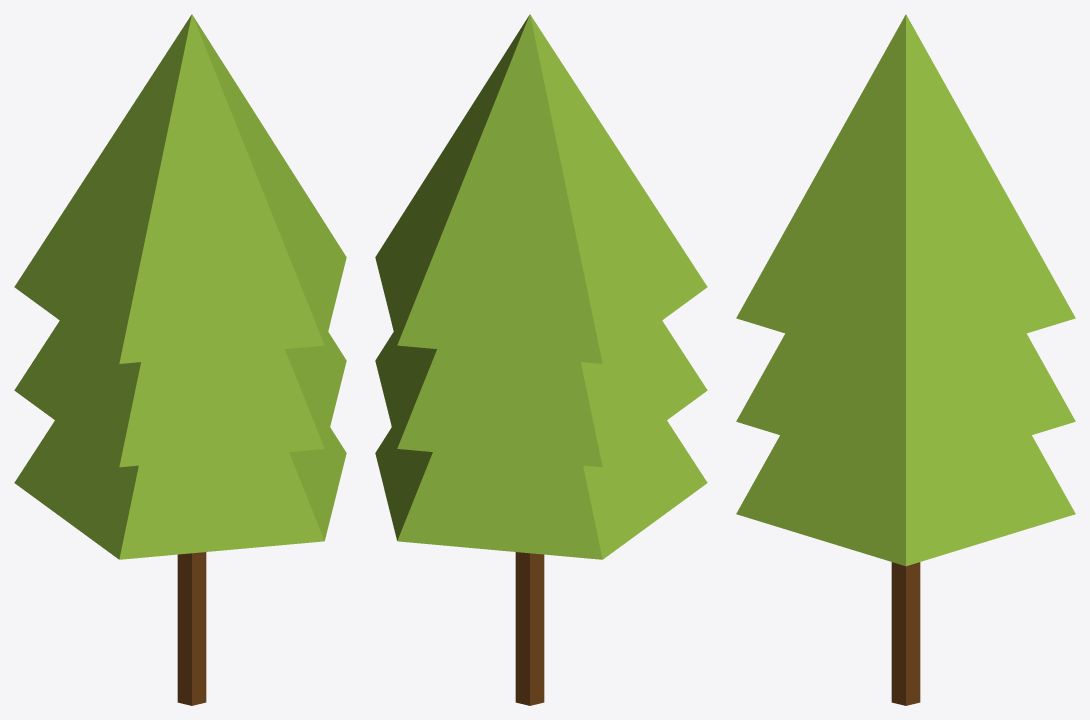
File: SM_Arbol01.fbx
3 renders of one model, left to right at view 1: azimuth 30°, elevation 25°; view 2: azimuth 150°, elevation 25°; view 3: azimuth 270°, elevation 25°, orthographic.
Visible parts, largest first — view 1: Hojas01, Hojas02, Hojas03, Tronco; view 2: Hojas01, Hojas02, Hojas03, Tronco; view 3: Hojas01, Hojas02, Hojas03, Tronco.
Boxes of the visible parts, x1,y1,x2,y2 form: Hojas01: (14,14,346,363); Hojas02: (14,320,346,467); Hojas03: (14,420,346,559); Tronco: (177,552,206,705); Hojas01: (375,14,707,363); Hojas02: (375,320,707,467); Hojas03: (375,420,707,559); Tronco: (515,552,544,705); Hojas01: (736,14,1075,370); Hojas02: (736,333,1075,473); Hojas03: (736,435,1075,566); Tronco: (891,562,920,705).
Size of the model in its own units: 90.45 by 212 by 95.11.
